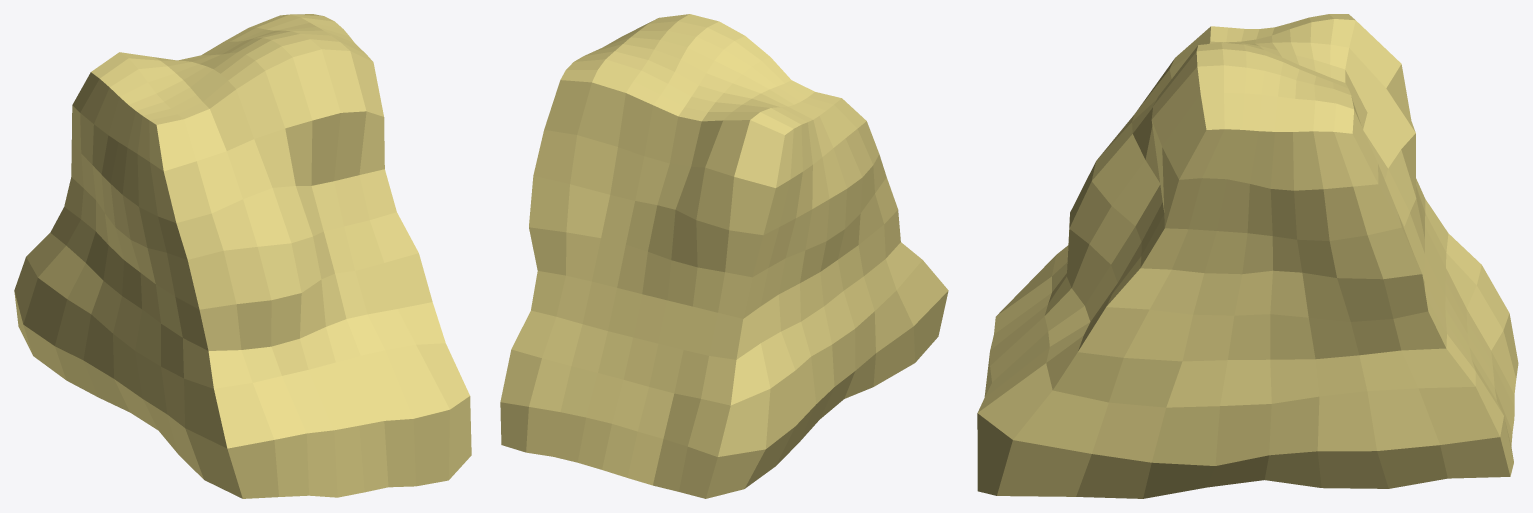
Rendered from Pempek Kapal Selam.fbx.
3 views of the same model, side by side, from view 1: azimuth 30°, elevation 25°; view 2: azimuth 150°, elevation 25°; view 3: azimuth 270°, elevation 25° (orthographic). The views are drawn at different scales.
Visible parts, largest first — view 1: Cube; view 2: Cube; view 3: Cube.
Boxes of the visible parts, <box> form: Cube: <box>14,14,471,498</box>; Cube: <box>500,14,948,498</box>; Cube: <box>977,14,1518,498</box>.
Size of the model in its own units: 188 by 250 by 298.
